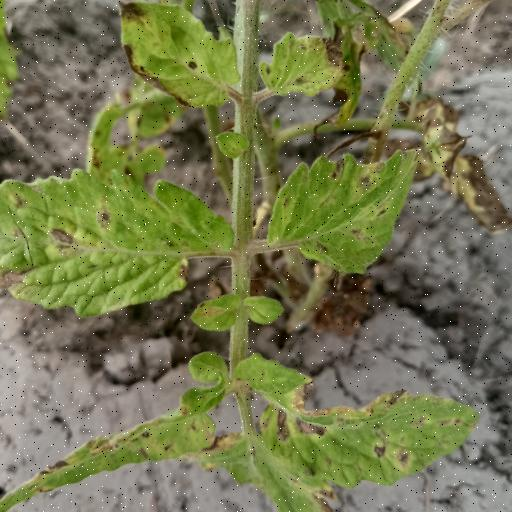Tomato_Brown_Spots: (0, 349, 236, 512), (0, 163, 243, 319), (232, 348, 487, 493), (263, 144, 422, 278), (116, 0, 246, 112)
